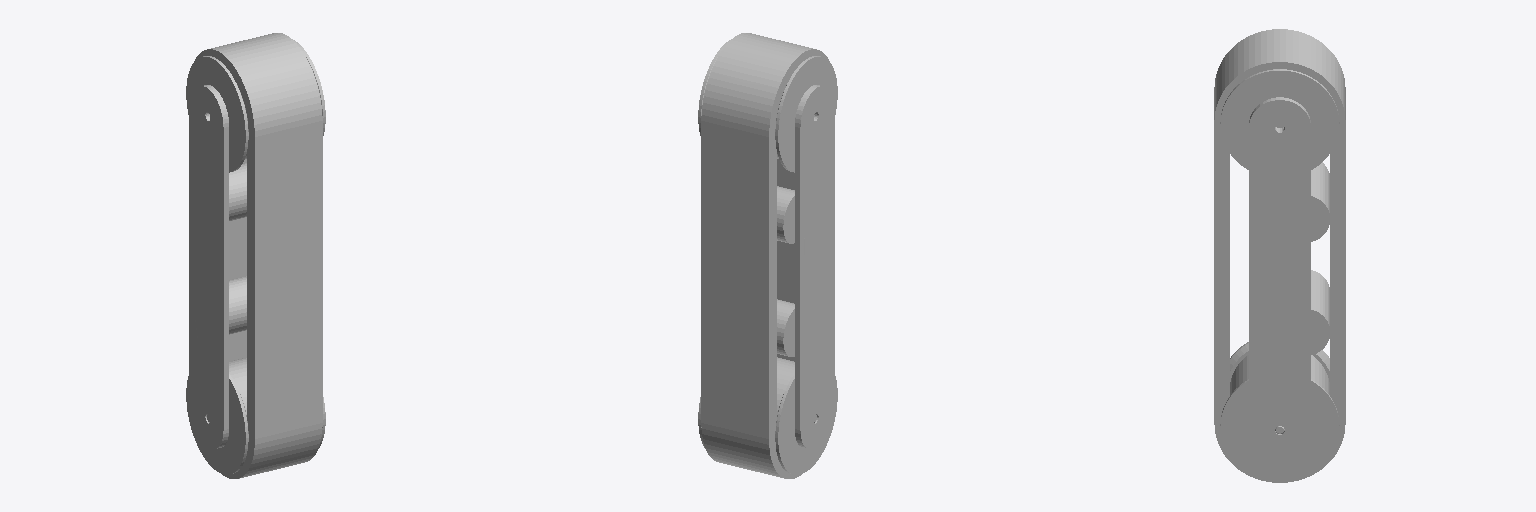
File: brazo_der_frontal_v2.obj
3 renders of one model, left to right at view 1: azimuth 30°, elevation 25°; view 2: azimuth 150°, elevation 25°; view 3: azimuth 270°, elevation 25°, orthographic.
Visible parts, largest first — view 1: Object.1; view 2: Object.1; view 3: Object.1.
Part boxes in pixels (left/top/right/bottom): Object.1: left=186, top=33, right=325, bottom=478; Object.1: left=698, top=33, right=837, bottom=478; Object.1: left=1214, top=29, right=1345, bottom=482.
Size of the model in its own units: 107 by 446 by 126.